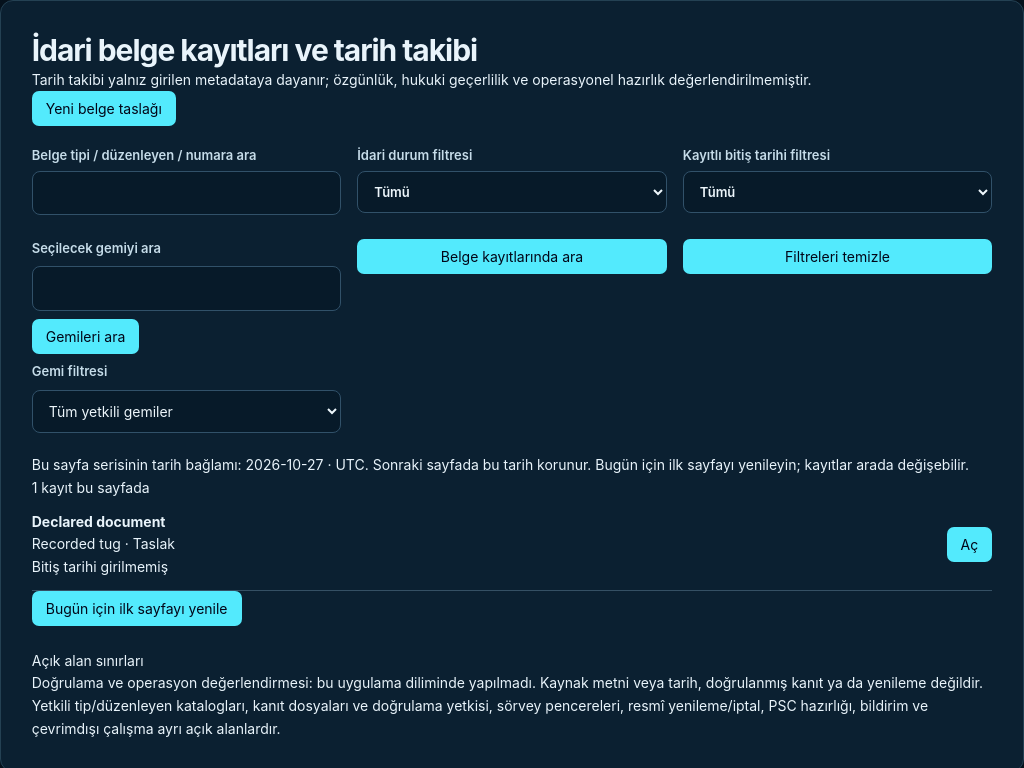
administrative certificate UI › does not infer manage capability from a draft writer
This screenshot has width=1024, height=768.
Click the button "Aç" at (969, 545), box [947,527,992,562]
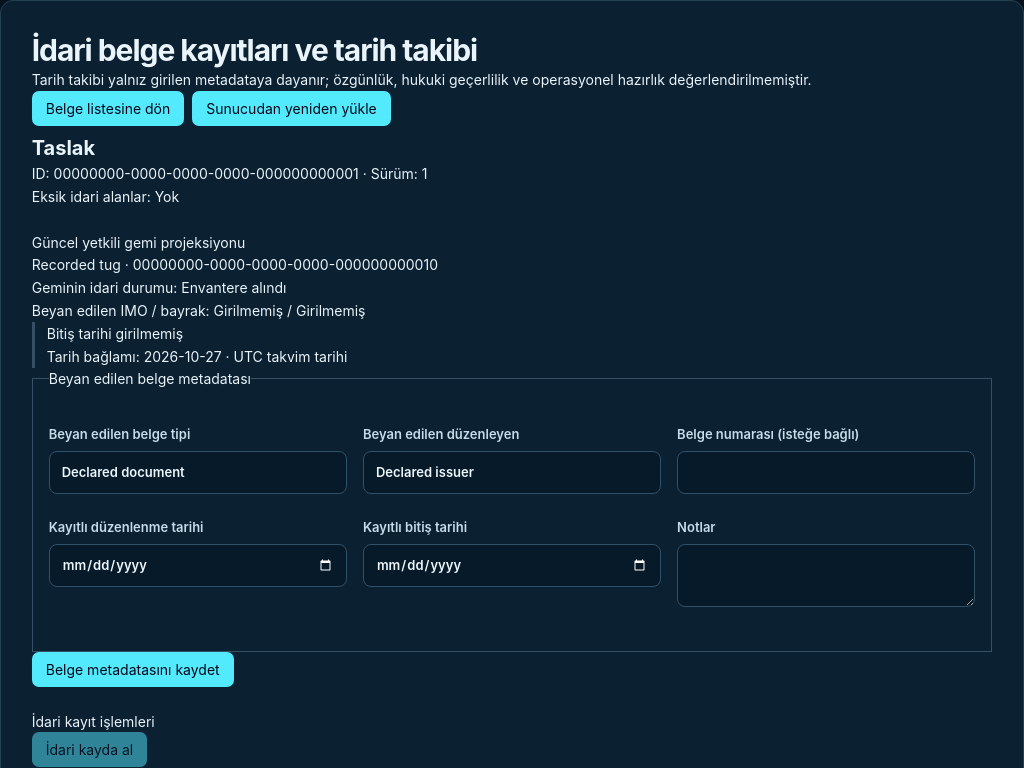
Expected: the field labelled "Beyan edilen belge tipi" is shown, [49,451,347,494]
Expected: the button "Belge metadatasını kaydet" is enabled, [32,652,234,687]
Expected: the button "İdari kayda al" is disabled, [32,732,147,767]
